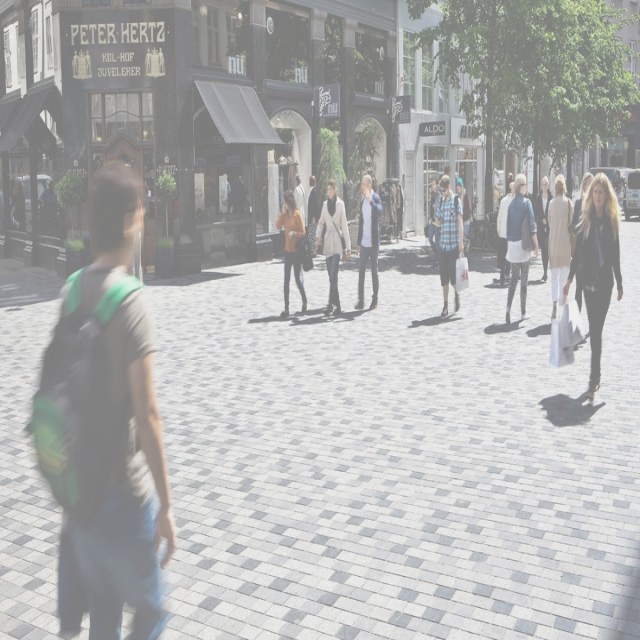pessoa: (29, 156, 178, 640), (562, 170, 624, 402), (403, 311, 596, 354), (502, 170, 541, 328), (314, 175, 352, 318), (434, 173, 470, 320), (570, 170, 596, 350), (546, 172, 576, 326), (353, 172, 384, 310), (275, 190, 308, 319), (54, 502, 84, 639), (532, 172, 562, 288), (536, 384, 611, 430), (244, 306, 376, 328), (496, 180, 516, 288), (428, 177, 443, 271), (221, 170, 251, 216), (454, 176, 473, 241), (125, 226, 144, 288), (306, 174, 318, 262), (482, 276, 547, 290), (292, 173, 306, 230), (554, 166, 580, 195), (505, 172, 515, 196), (506, 172, 514, 195)
